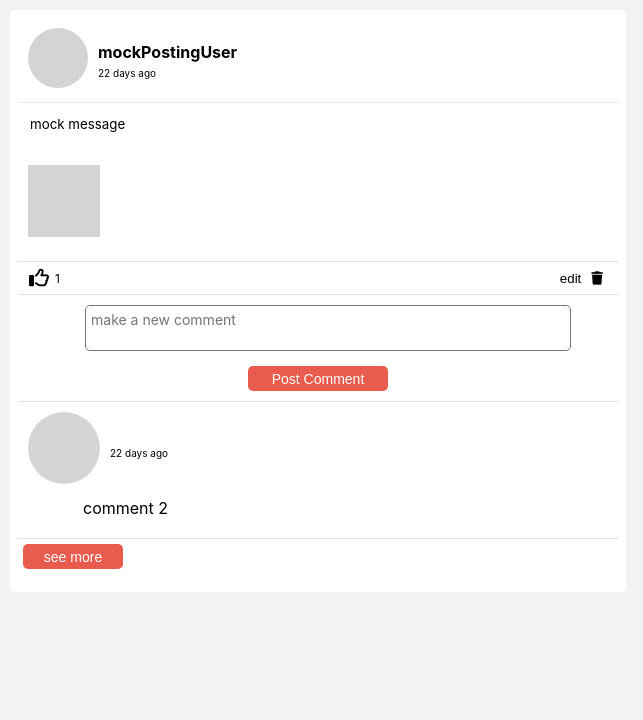
Test: Post component › displays see more button if >1 comment and then hide button when see more is clicked
The image size is (643, 720).
Click the button "see more": (73, 556) [23,544,123,569]
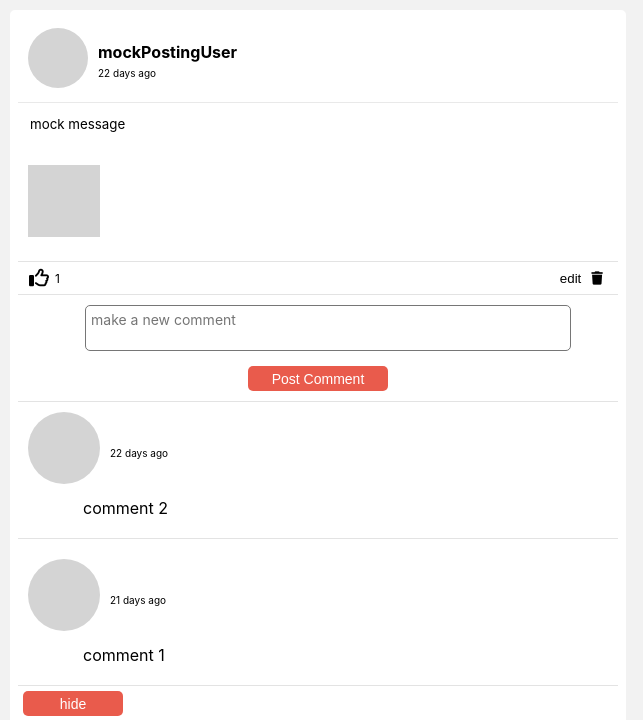
Result: the button "hide" is shown at [23,691,123,716]
